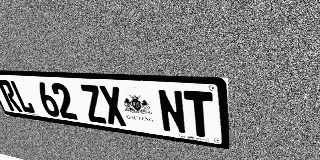2: (49, 83, 78, 120)
6: (34, 82, 62, 118)
L: (9, 80, 36, 114)
N: (156, 89, 187, 135)
R: (0, 79, 23, 112)
T: (183, 90, 214, 139)
X: (98, 85, 128, 127)
Z: (79, 84, 108, 124)
